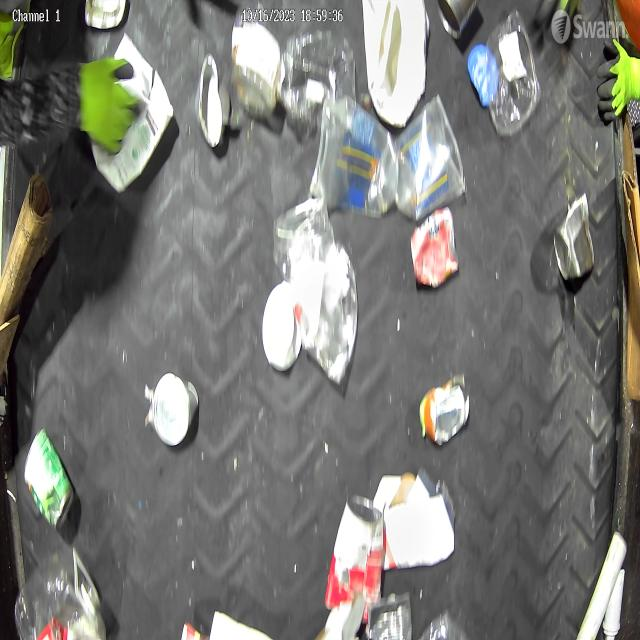can: (324, 492, 384, 622), (24, 426, 74, 529), (411, 207, 460, 288), (553, 192, 596, 280), (419, 376, 471, 444), (153, 372, 198, 446), (195, 52, 225, 148), (366, 588, 414, 640), (435, 0, 478, 38)
milk_jug: (362, 0, 428, 128)
